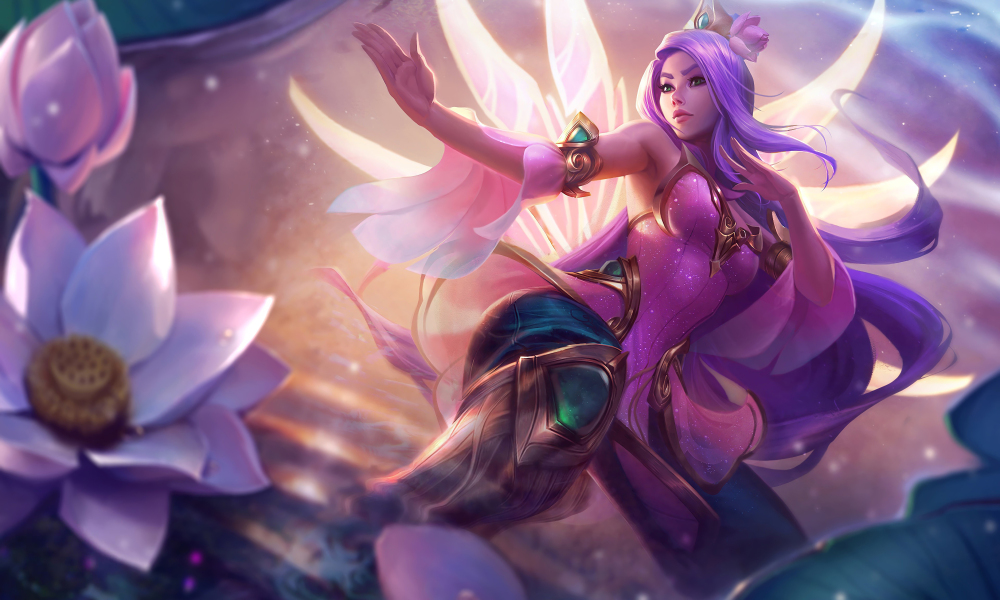face: (619, 14, 800, 197)
